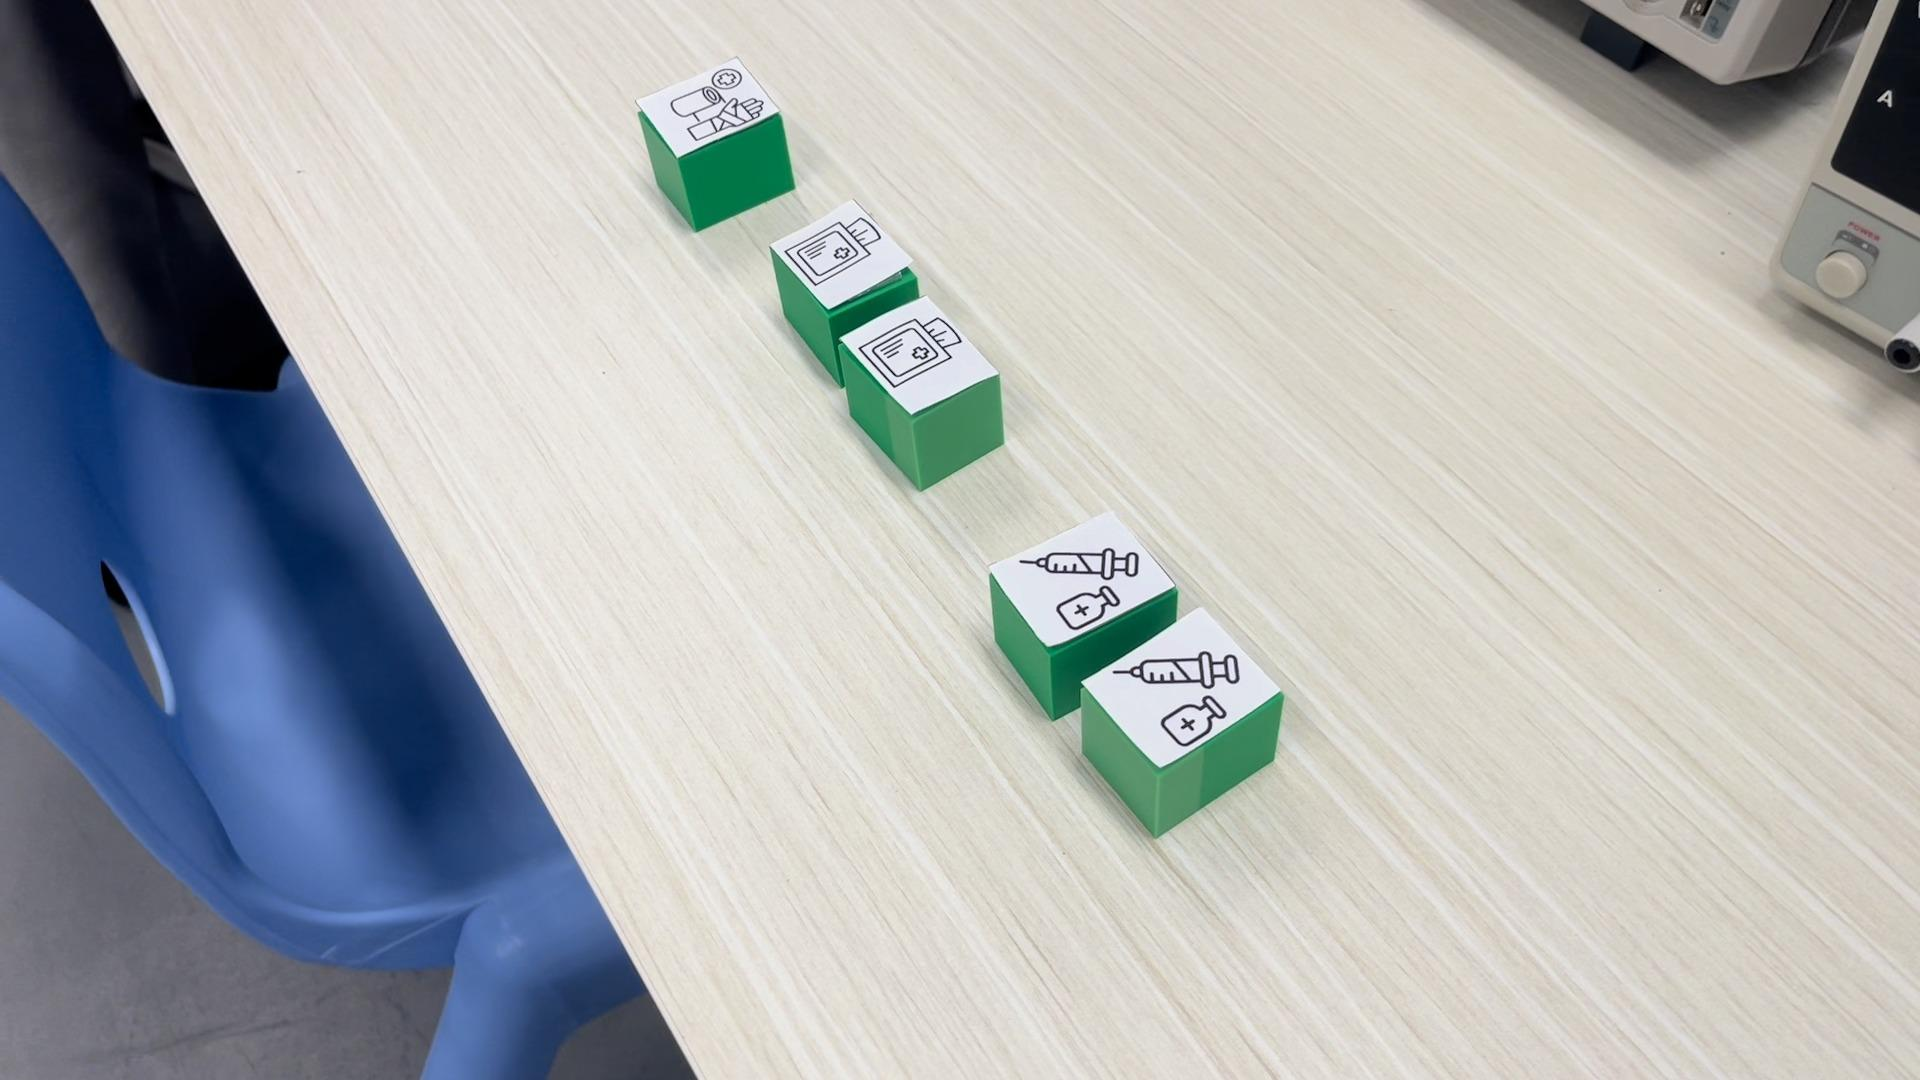Bandages: (632, 57, 796, 232)
Gauze: (842, 288, 1005, 496), (767, 200, 916, 315)
antiseptic cream: (1080, 605, 1284, 838), (984, 508, 1175, 652)
